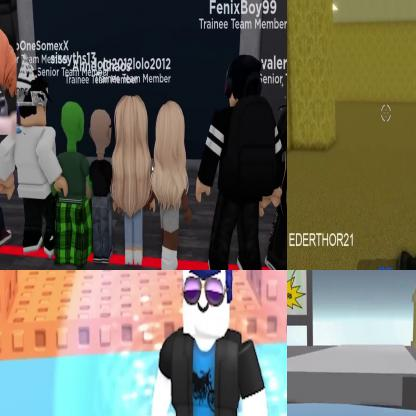Roblox-Avatar: (197, 54, 285, 270), (149, 271, 275, 416), (1, 53, 71, 258), (111, 95, 156, 266), (151, 99, 195, 270), (53, 102, 95, 269), (265, 92, 287, 270), (90, 111, 115, 264)
